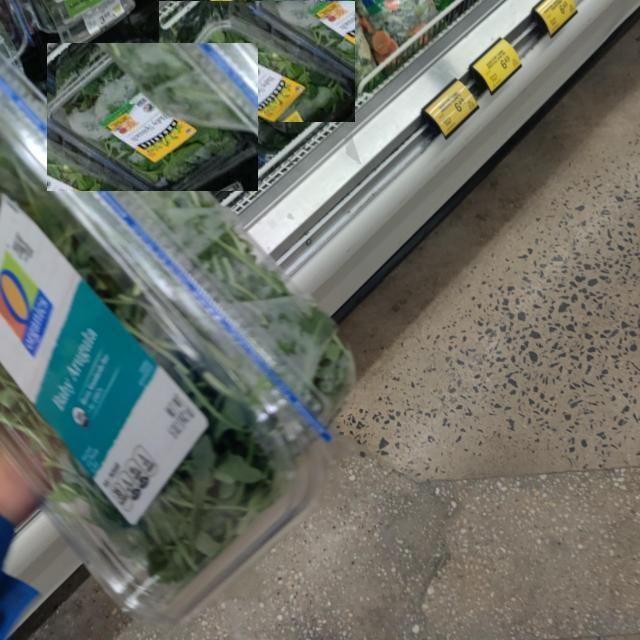Salad: (0, 106, 359, 621), (46, 43, 258, 191), (158, 0, 355, 122)
